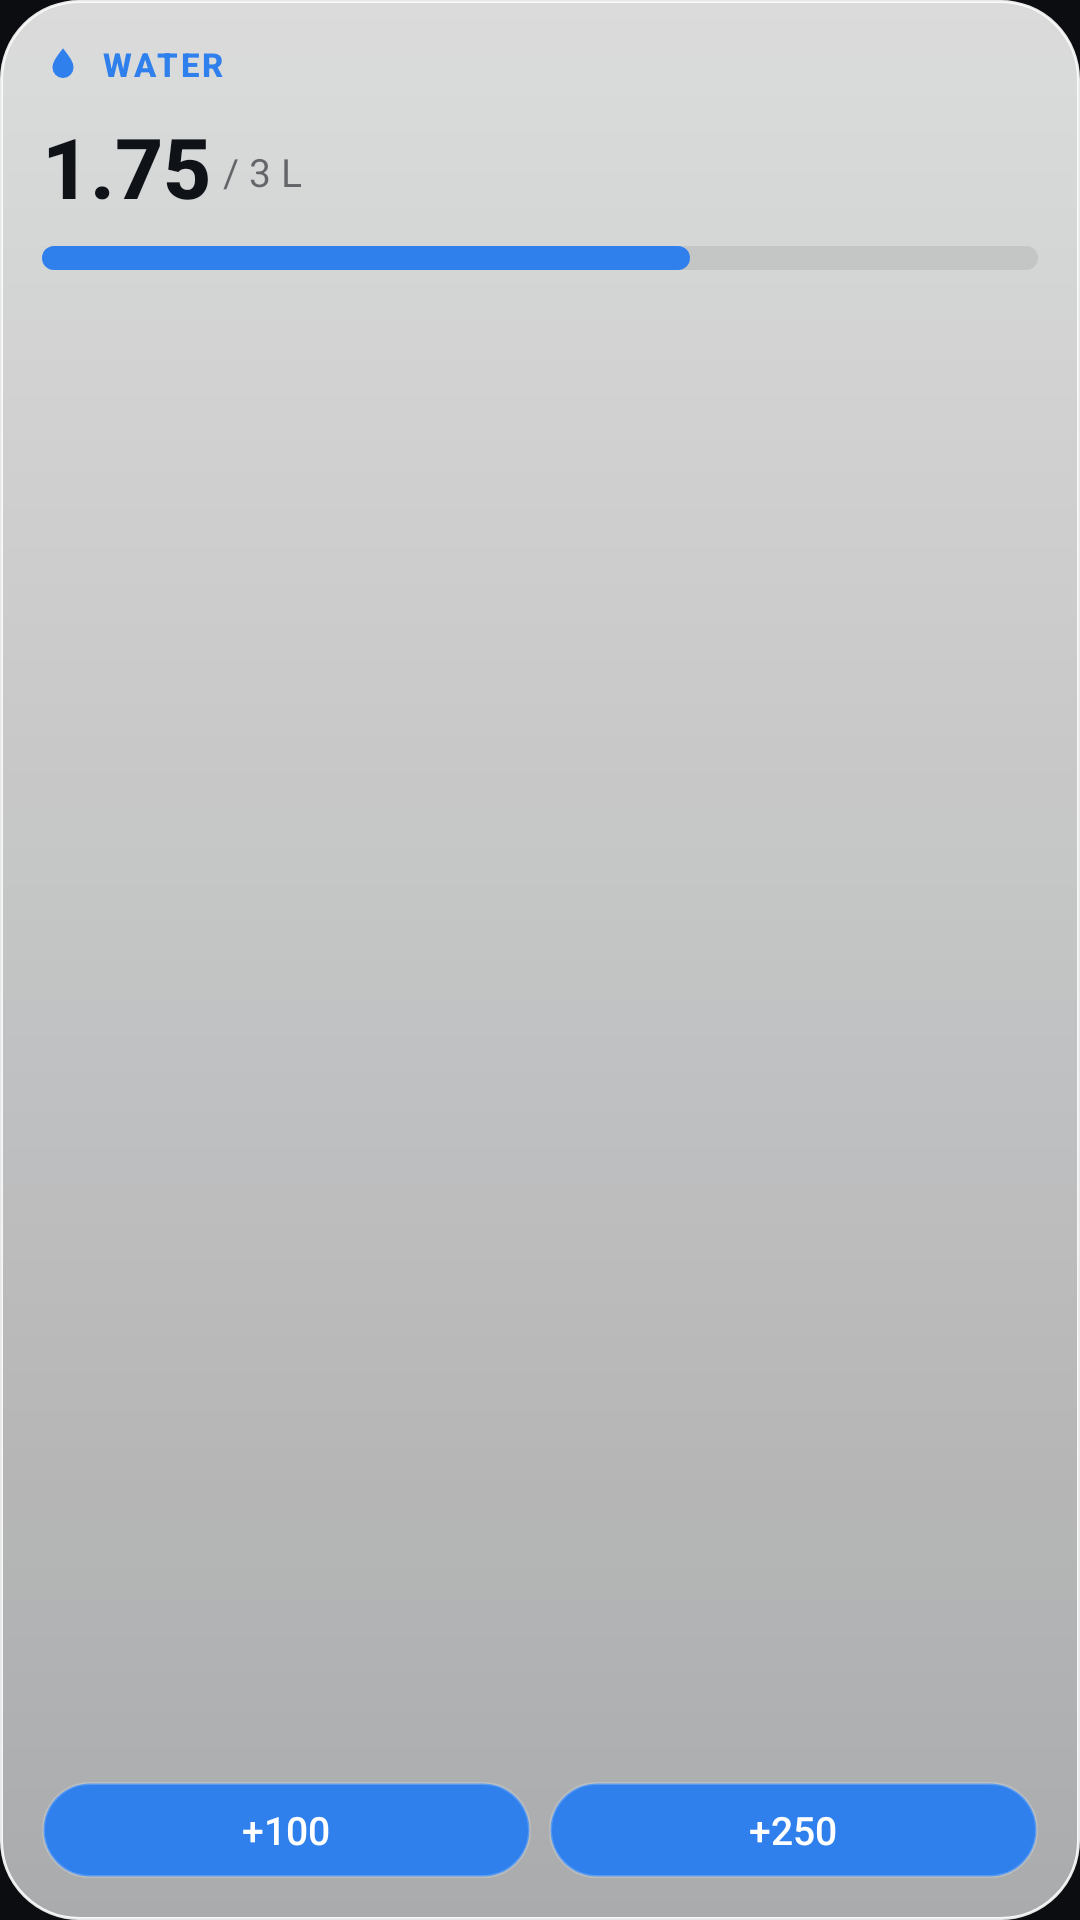

Screen size 1080 × 1920. Icon name, then its center in pixels as (x=x, y=y):
widget drop: (x=63, y=63)
